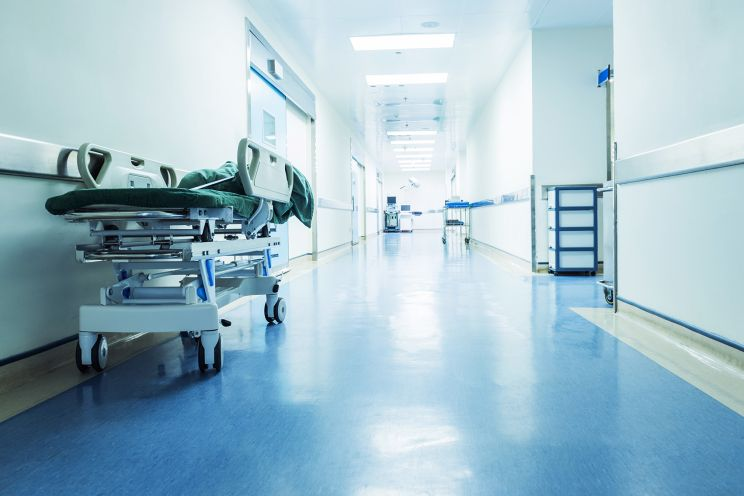bedrail: (77, 143, 177, 189), (238, 137, 293, 204)
drawer: (546, 185, 598, 276)
hospital_bed: (45, 137, 314, 373)
utility_cart: (441, 202, 471, 243)
ventilator: (384, 196, 398, 232)
